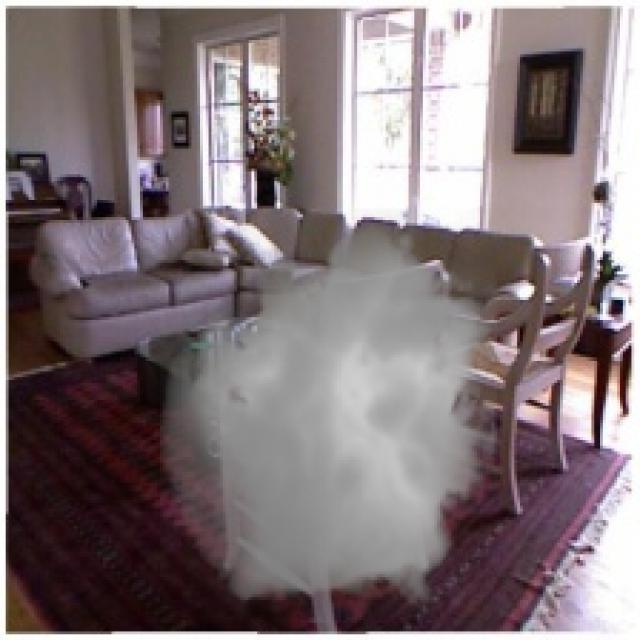smoke: (148, 208, 512, 623)
